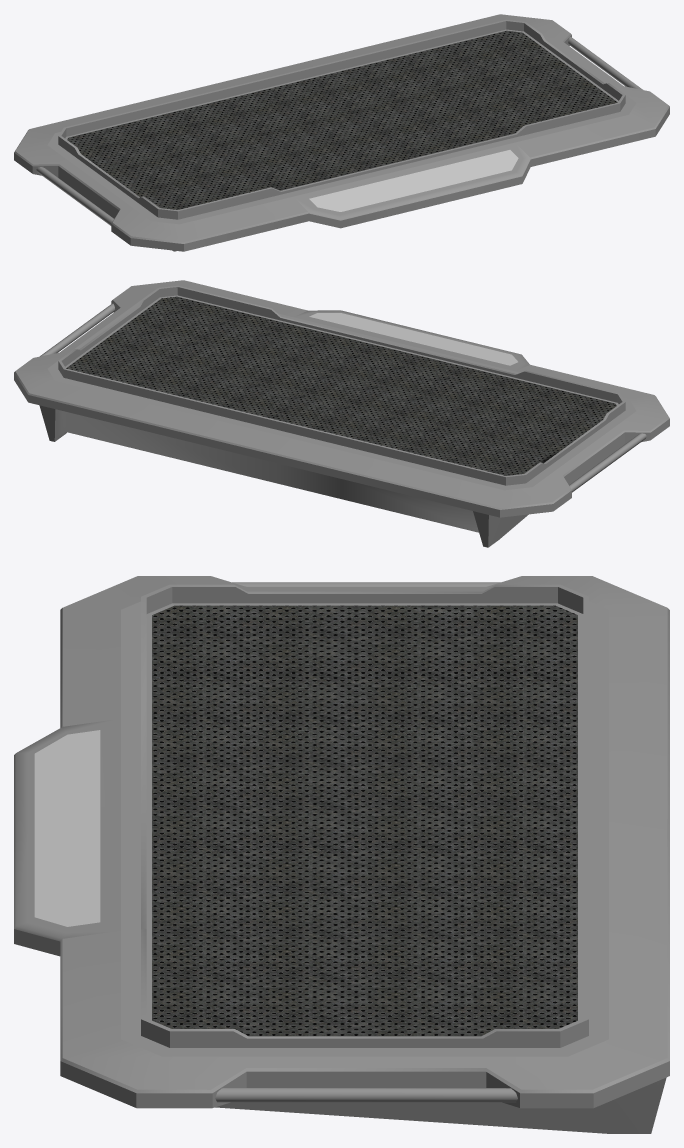
The model's file is WeaponModTable01.FBX.
3 views of the same model, one above another, from view 1: azimuth 30°, elevation 25°; view 2: azimuth 150°, elevation 25°; view 3: azimuth 270°, elevation 25° (orthographic). The views are drawn at different scales.
Parts seen in each view (by area): view 1: WeaponModTable01; view 2: WeaponModTable01; view 3: WeaponModTable01.
Boxes of the visible parts, x1,y1,x2,y2 form: WeaponModTable01: (14,14,669,251); WeaponModTable01: (14,280,669,547); WeaponModTable01: (14,576,669,1133).
Size of the model in its own units: 2.4 by 0.2526 by 1.29.
